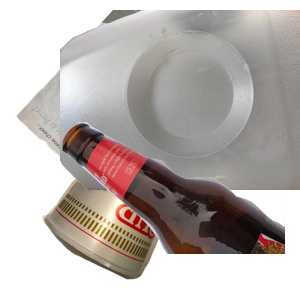glass: (60, 120, 300, 300)
paper: (14, 10, 229, 190)
plastic: (60, 10, 300, 190)
trash: (40, 121, 221, 300)
